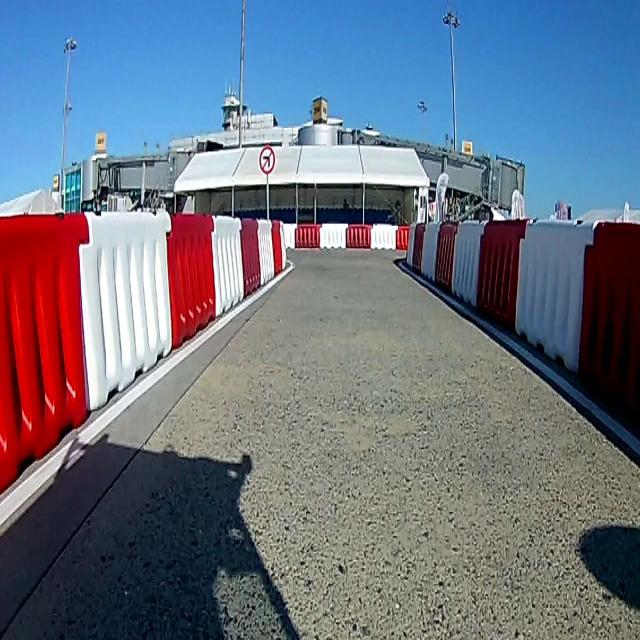soladonulmez: (259, 147, 275, 173)
